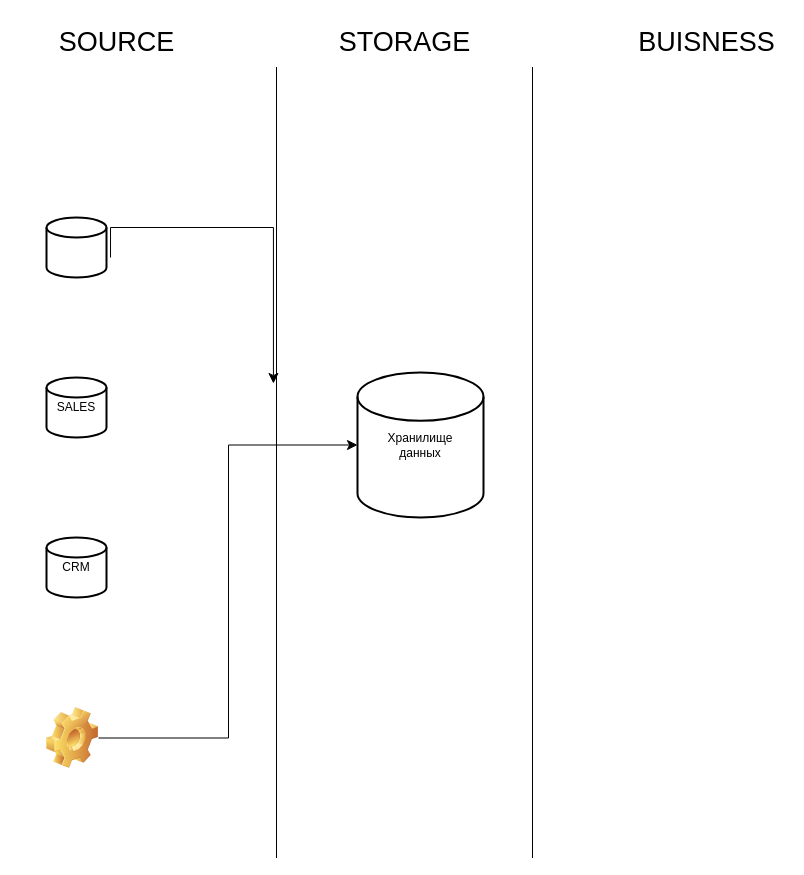
Image size: 804x875. Some labels were removed from this diagram. The centre of each missing label's shape, as x and y in pixels:
Google Analytics API: the point at 72,737
СКЛАД: the point at 76,247
